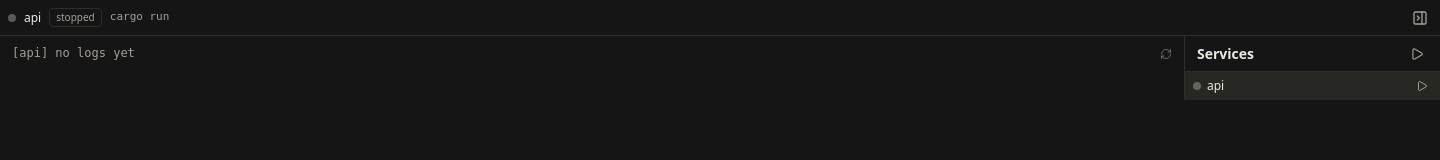
RuntimePanel — bulk controls are the same for both lists › reports a failed bulk action in the panel's error line
Click the button named "Start all services". click: (1417, 54)
box: [1406,42,1428,64]
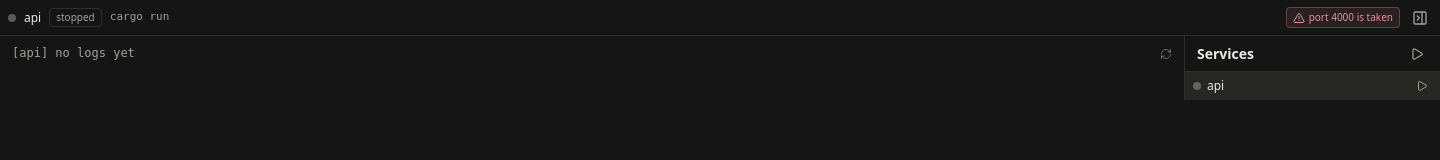
Expected: the message reads "port 4000 is taken", [1309,10,1393,24]
